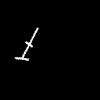double_crochet: (16, 28, 37, 60)
